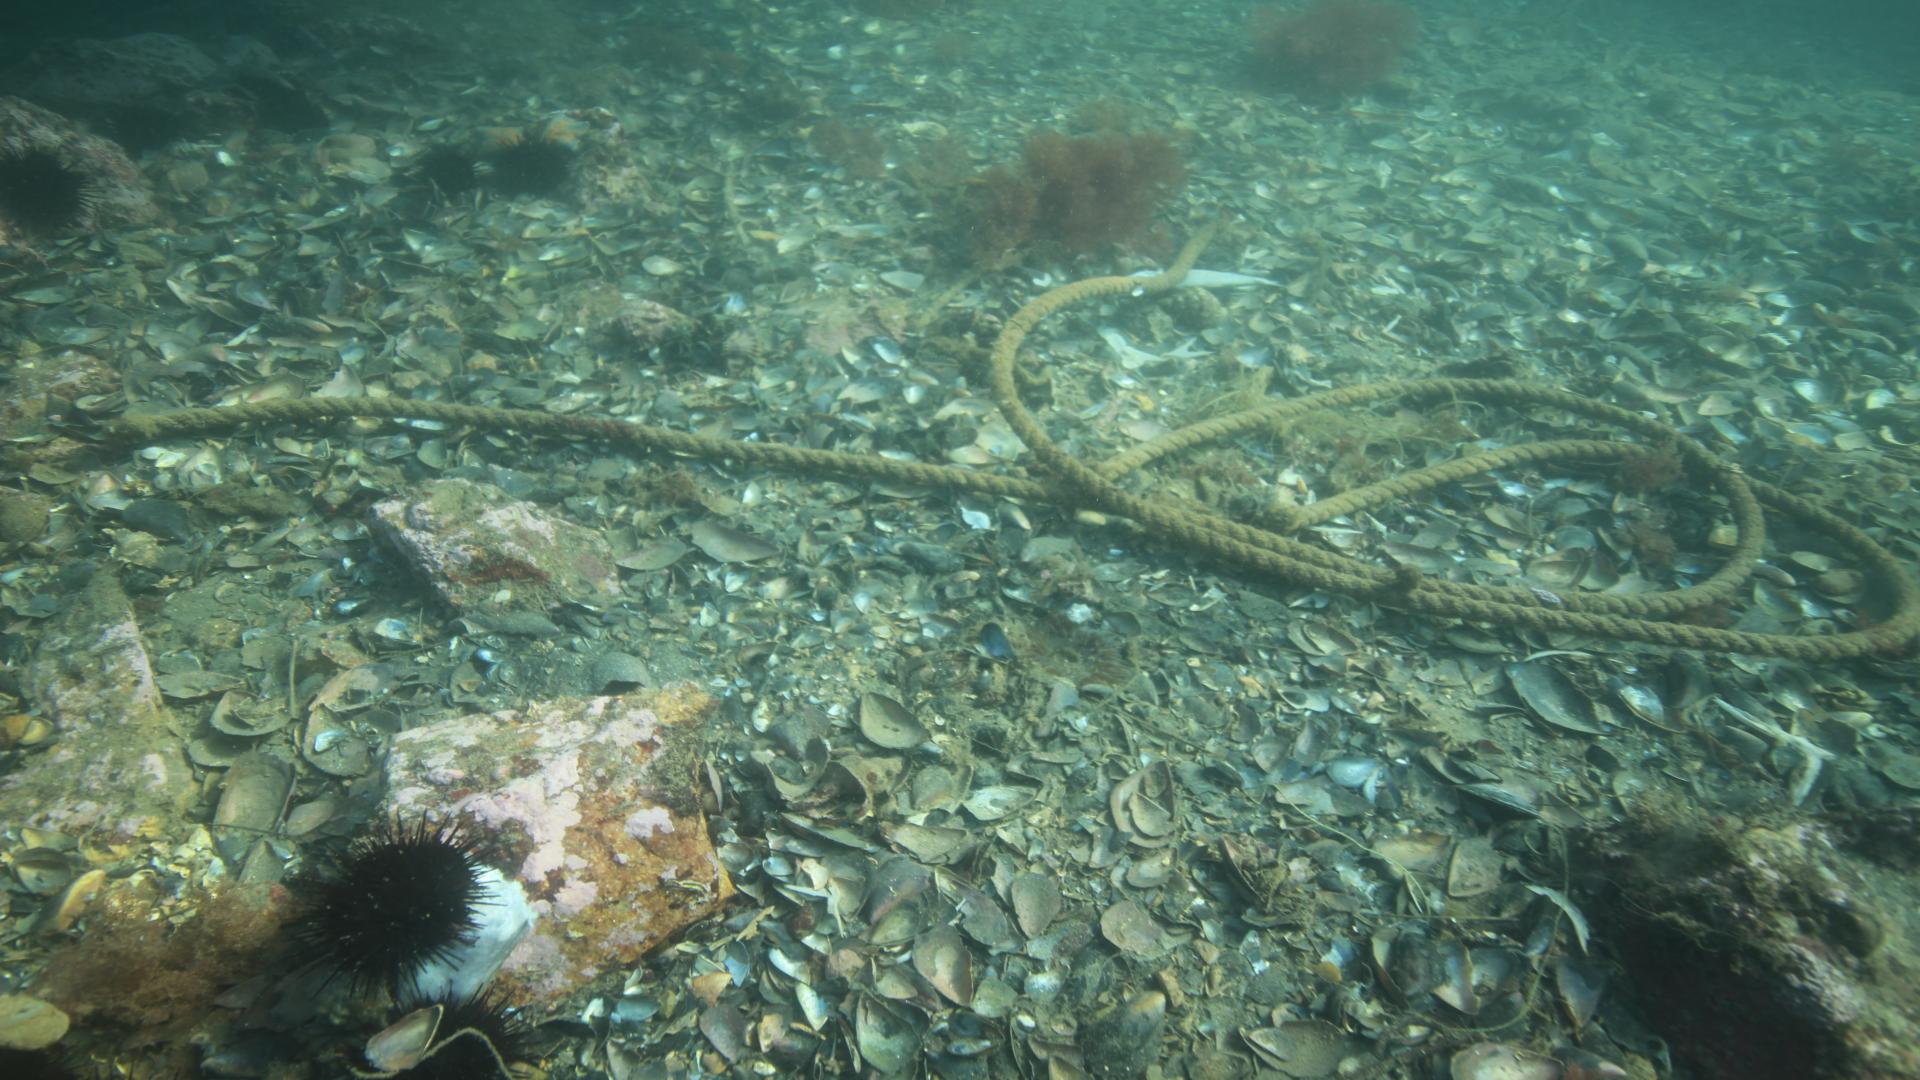bundle of ropes: (117, 222, 1920, 666)
